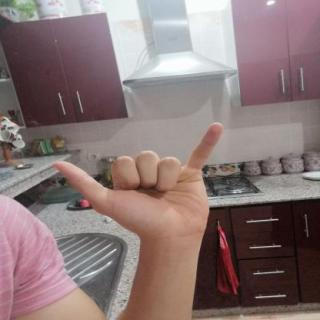YA: (40, 117, 244, 248)
